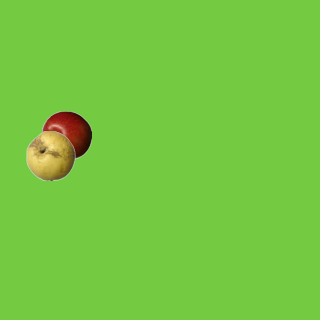Apple Braeburn: (41, 110, 91, 160)
Apple Golden 1: (25, 130, 75, 180)
